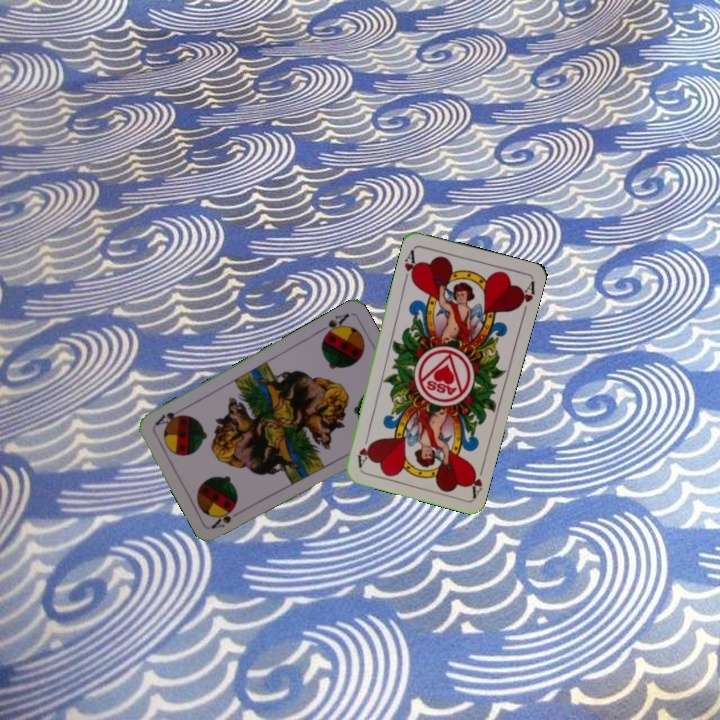HA: (465, 459, 488, 499), (400, 245, 420, 286)
SA: (315, 309, 352, 341), (208, 506, 246, 531)
